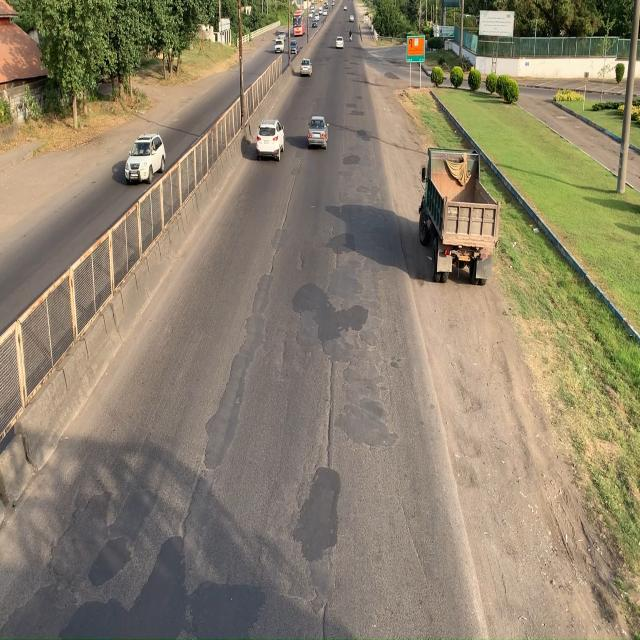Truck: (411, 150, 494, 290)
cars: (125, 132, 165, 181), (256, 115, 284, 161)
